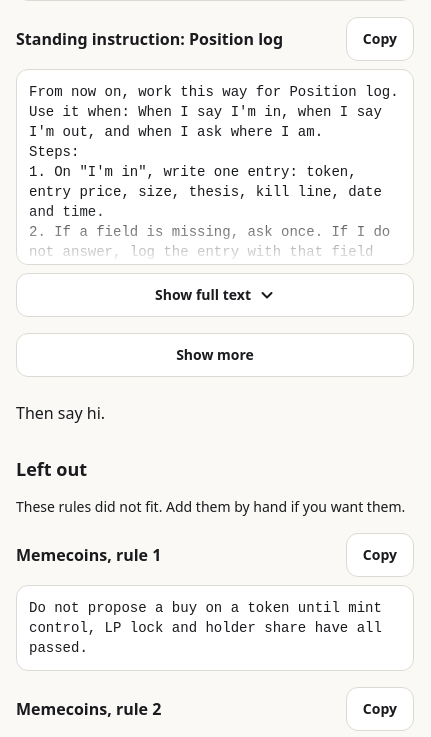
Test case: Show more at the three block boundary › shows Show more on a group of more than three, and tapping it shows them all (control)
The image size is (431, 737).
(page scrolled)
Click the button "Show more" at (215, 355), box x1=16 y1=333 x2=414 y2=377
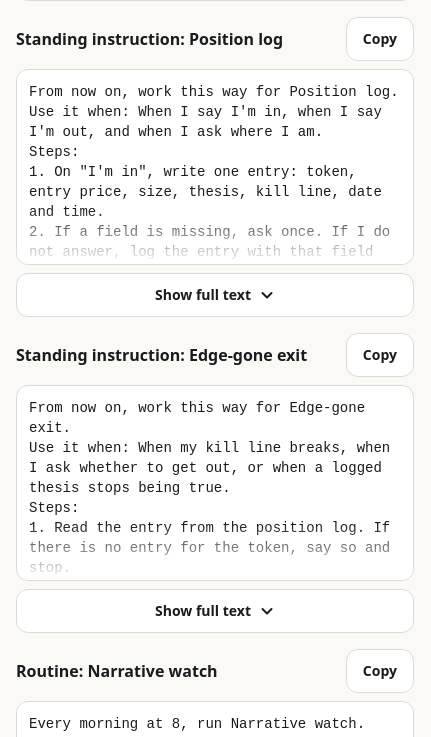
Check: no buttons "Show more" are shown
